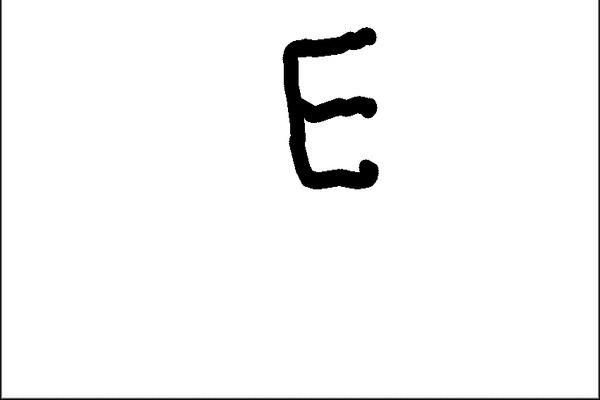E: (275, 23, 394, 196)
